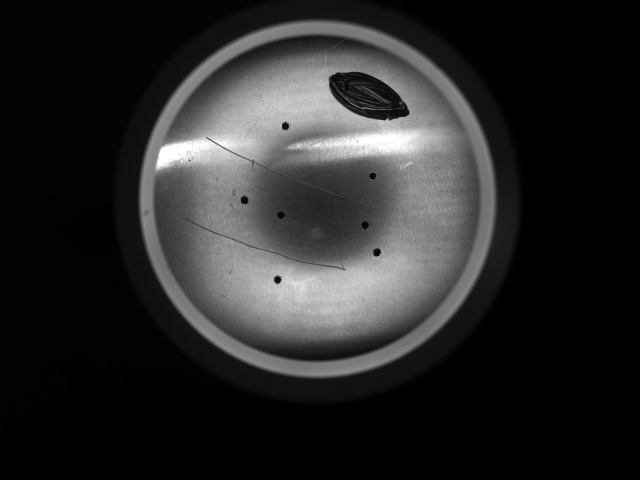ca_shang: (201, 129, 379, 231), (169, 195, 353, 282)
zang_wu: (314, 63, 417, 129)
zhen_kong: (361, 165, 386, 188), (367, 240, 388, 265), (268, 266, 287, 293), (355, 216, 377, 237), (275, 117, 297, 137), (271, 204, 289, 226), (236, 190, 253, 211)
